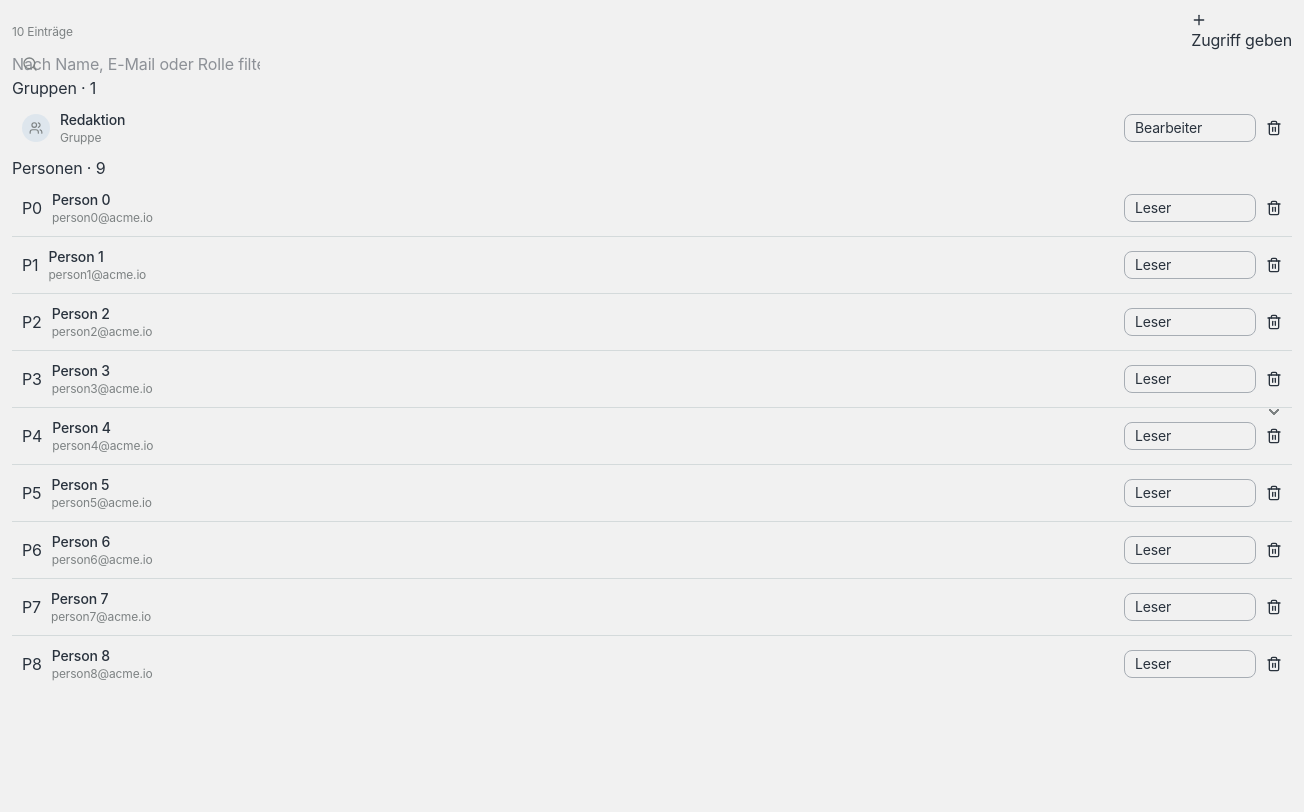
Scenario: MemberAccessManager › groups long lists and filters them by name, email or group
Expected: the text "Gruppen · 1" is shown, [12,78,96,98]
Expected: the text "Personen · 9" is shown, [12,158,105,178]
Step 1. Type "person3@" into the field named "Mitglieder und Gruppen filtern" → point(136, 64), box [12,52,260,76]
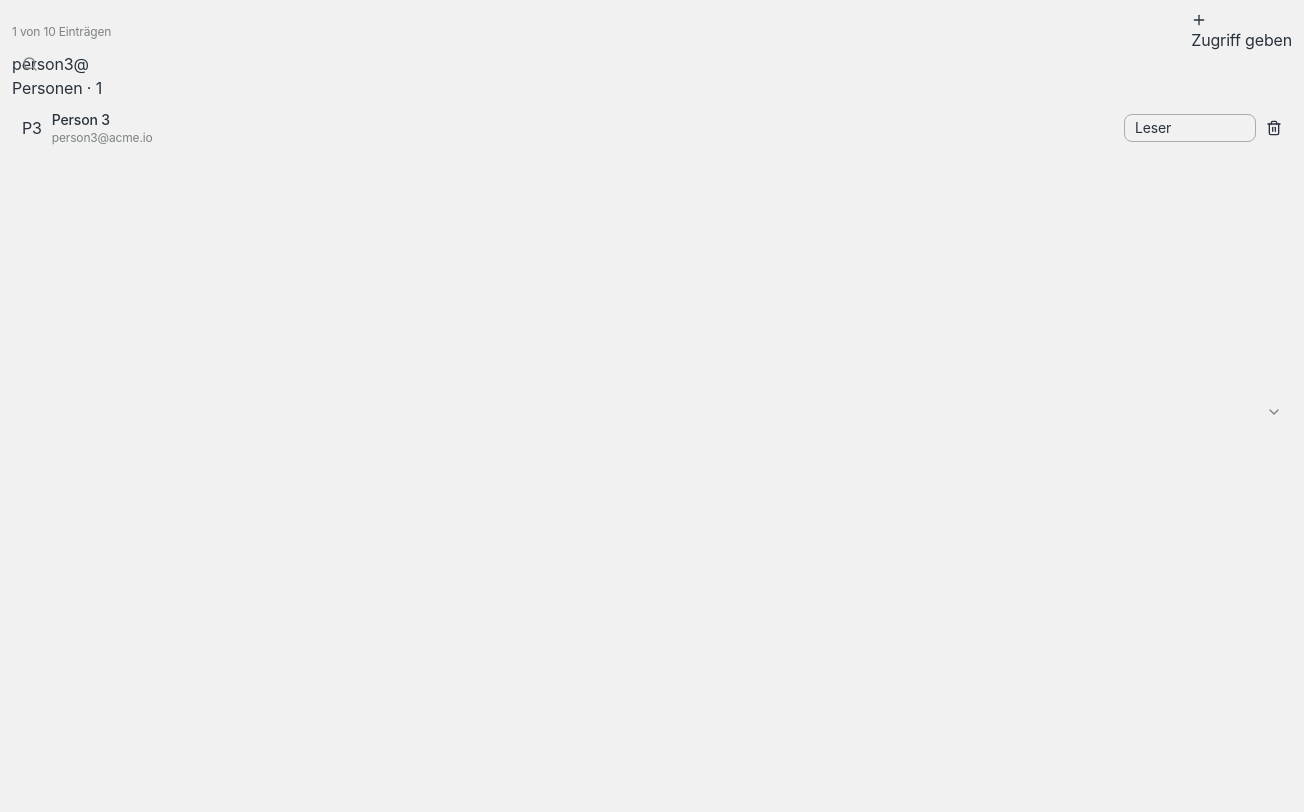
Expected: the text "Person 4" is gone
Expected: the text "Redaktion" is gone
Expected: the text "1 von 10 Einträgen" is shown, [12,24,111,40]
Step 2. Replace the text in the field named "Mitglieder und Gruppen filtern" with "redak" → point(136, 64), box [12,52,260,76]
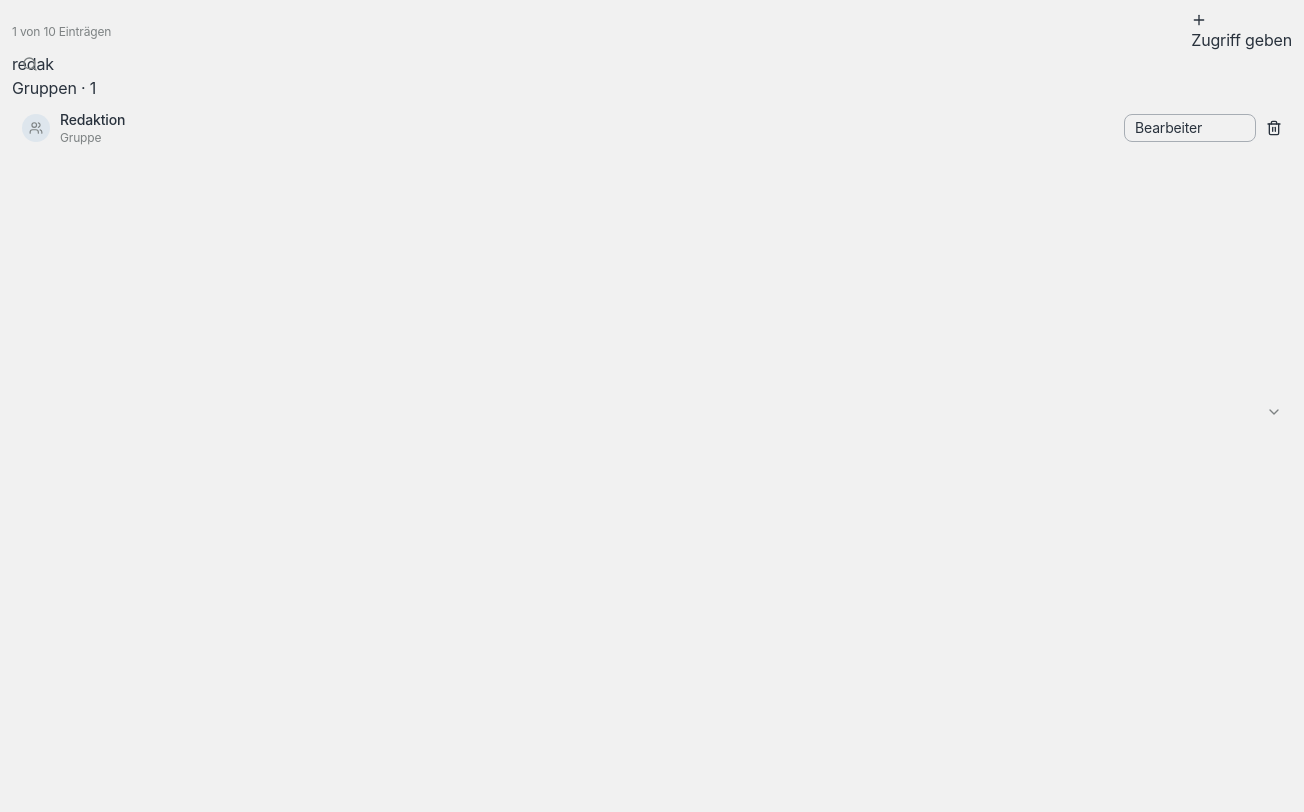
Expected: the text "Redaktion" is shown, [60,111,125,128]
Expected: the text "Person 3" is gone
Step 3. Replace the text in the field named "Mitglieder und Gruppen filtern" with "niemand" → point(136, 64), box [12,52,260,76]
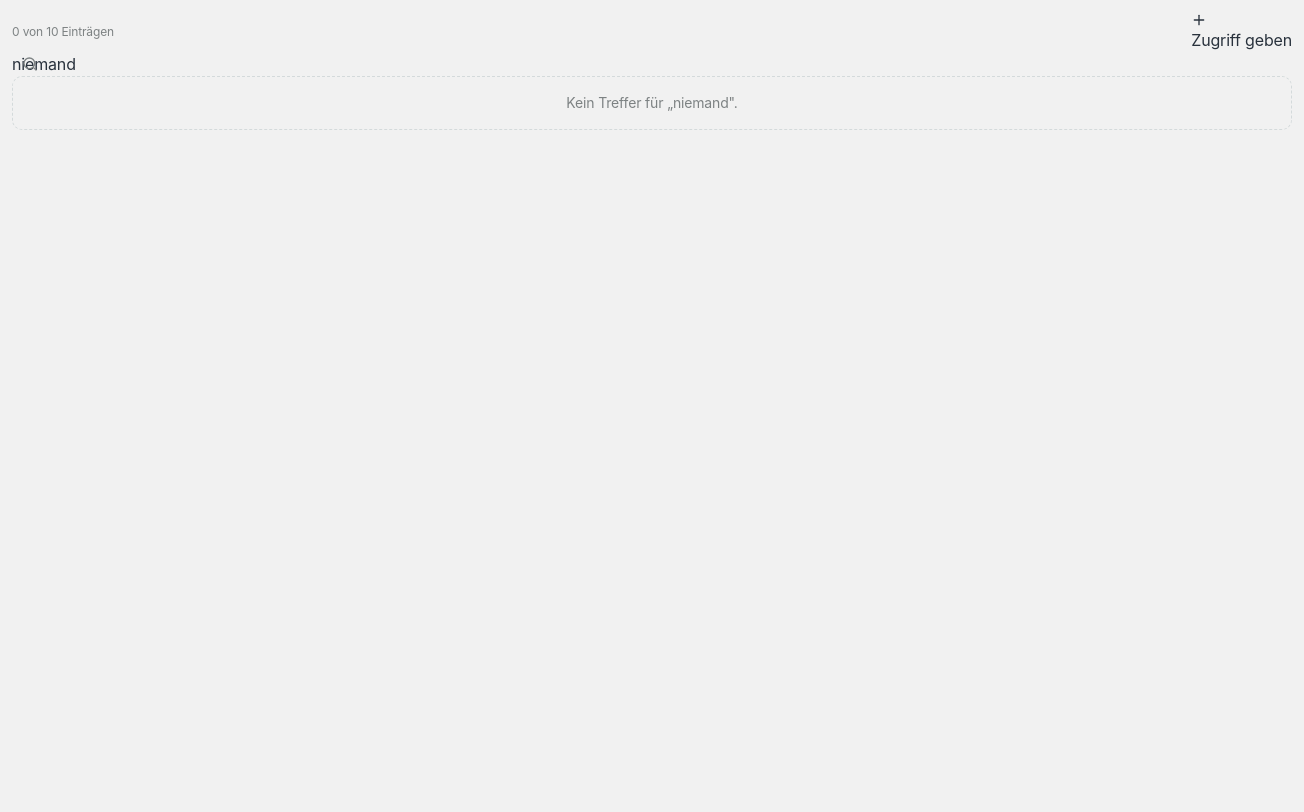
Expected: the text "Kein Treffer für „niemand\"." is shown, [12,76,1292,130]
